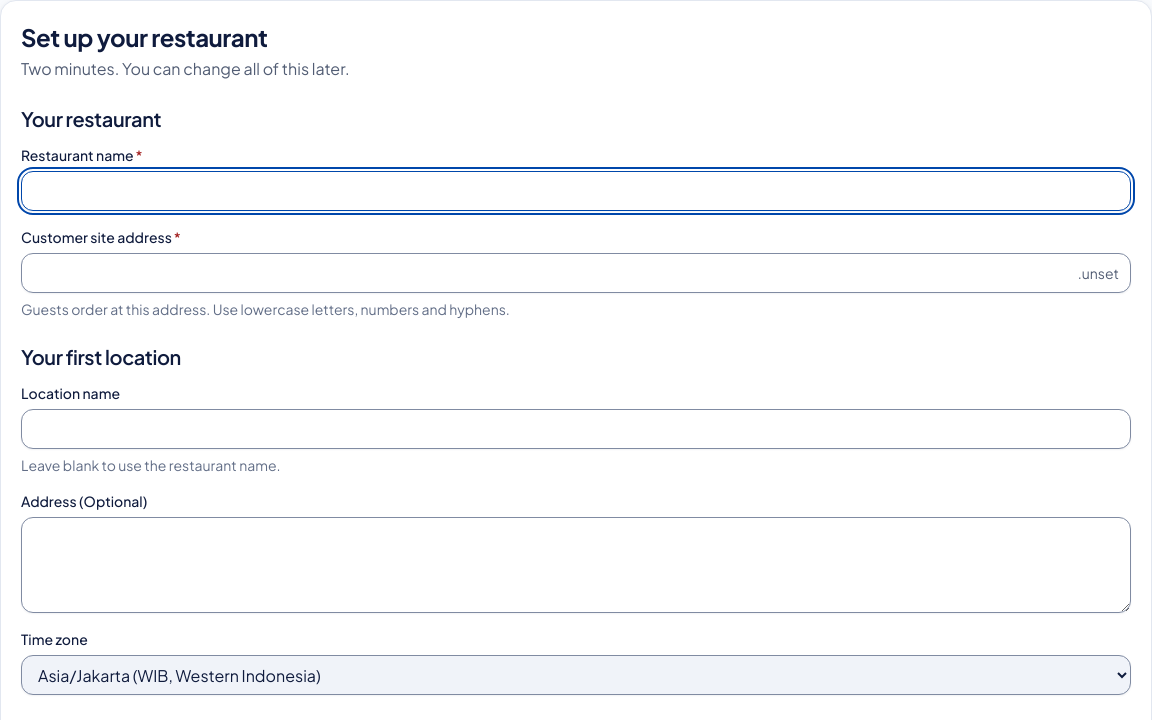
create restaurant › suggests an address from the name and checks it live
Step 1. Type "Warung Sari & Co" into the field labelled "Restaurant name*" → (576, 191), box [21, 171, 1131, 211]
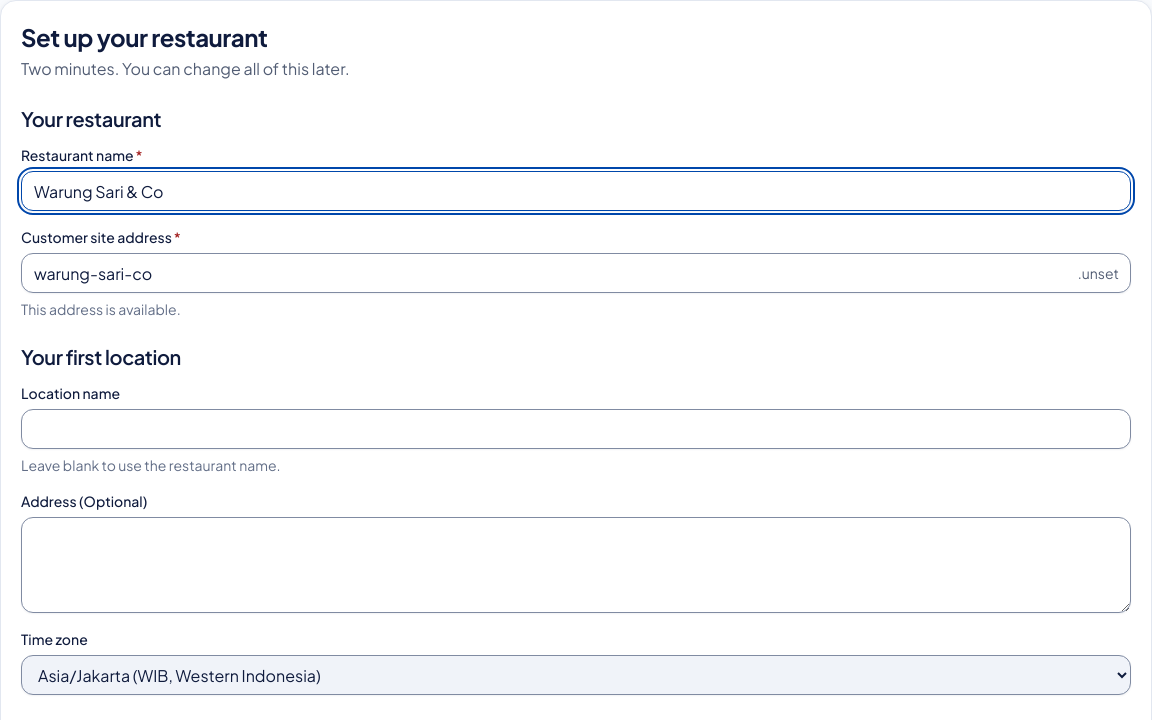
Now the field labelled "Customer site address*" holds "warung-sari-co", box [21, 253, 1131, 293]
Now the text "This address is available." is shown, box [21, 300, 181, 318]
